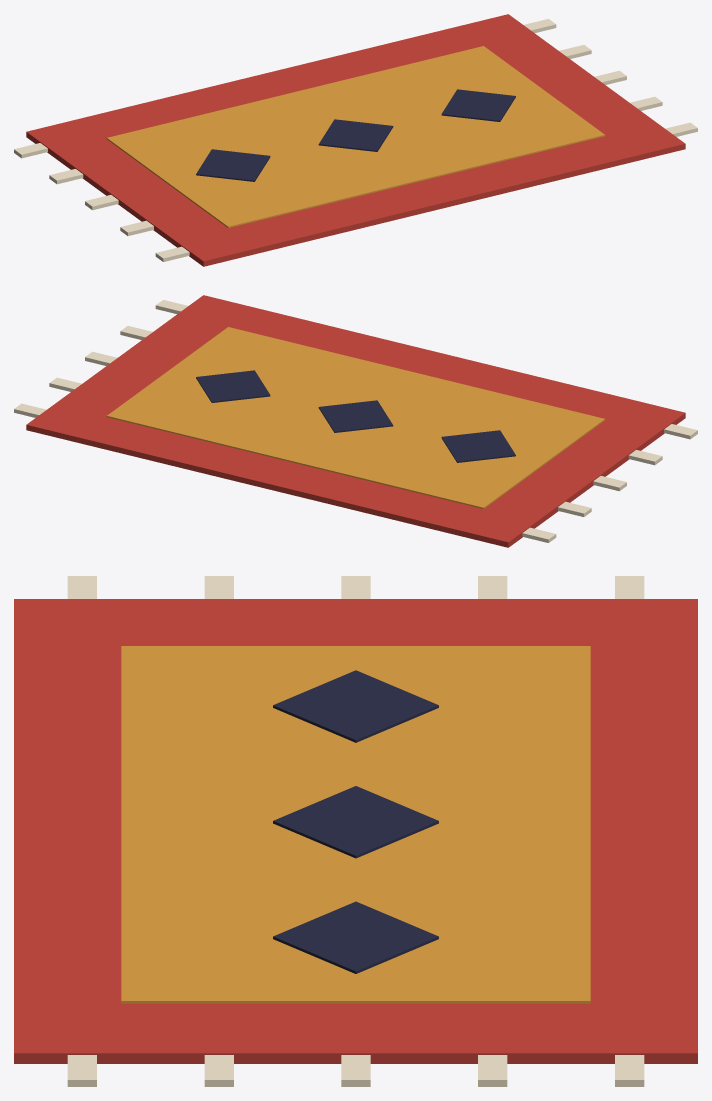
The model's file is PR_Inn_Kilim.fbx.
The picture shows the model from 3 angles, top to bottom: view 1: azimuth 30°, elevation 25°; view 2: azimuth 150°, elevation 25°; view 3: azimuth 270°, elevation 25°; orthographic projection. The views are drawn at different scales.
Parts seen in each view (by area): view 1: PR_Inn_Kilim; view 2: PR_Inn_Kilim; view 3: PR_Inn_Kilim.
Boxes of the visible parts, <box> form: PR_Inn_Kilim: <box>14,14,697,266</box>; PR_Inn_Kilim: <box>14,295,697,547</box>; PR_Inn_Kilim: <box>14,576,697,1086</box>.
Bounding box in the file's own units: 1.22 × 0.018 × 0.7.
1 material, 1 textured.
